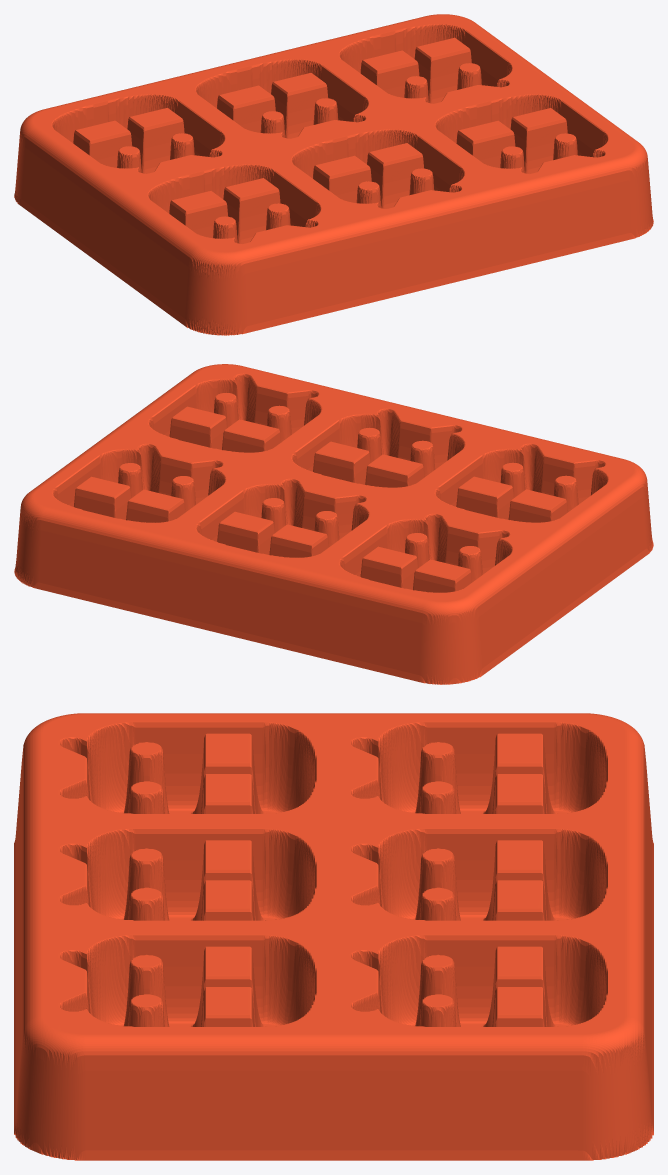
File: mold.glb
3 renders of one model, top to bottom at view 1: azimuth 30°, elevation 25°; view 2: azimuth 150°, elevation 25°; view 3: azimuth 270°, elevation 25°, orthographic. The views are drawn at different scales.
Visible parts, largest first — view 1: geometry_0; view 2: geometry_0; view 3: geometry_0.
Part boxes in pixels (x1,y1,x2,y2): geometry_0: (14,14,653,335); geometry_0: (14,364,653,684); geometry_0: (14,713,653,1160).
Size of the model in its own units: 0.1026 by 0.0159 by 0.0808.
